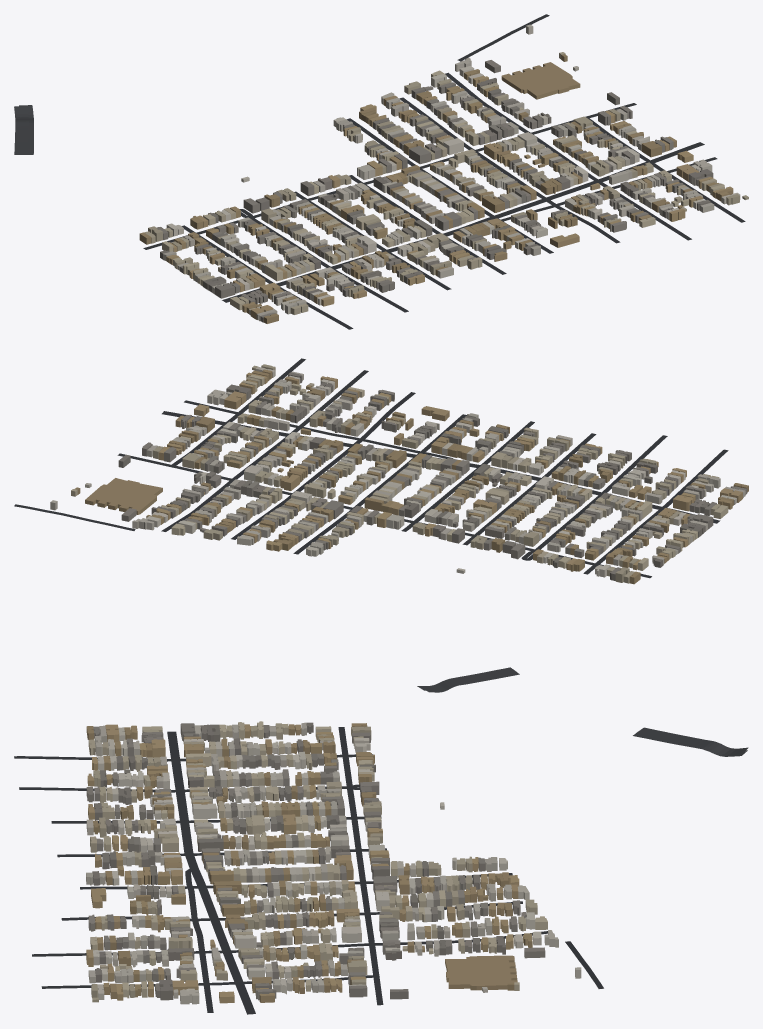
File: tile_6_11.glb
The picture shows the model from 3 angles, top to bottom: view 1: azimuth 30°, elevation 25°; view 2: azimuth 150°, elevation 25°; view 3: azimuth 270°, elevation 25°; orthographic projection. The views are drawn at different scales.
Parts seen in each view (by area): view 1: bld_6_11, road_6_11; view 2: bld_6_11, road_6_11; view 3: bld_6_11, road_6_11.
Boxes of the visible parts, x1,y1,x2,y2 form: bld_6_11: (139, 24, 748, 323); road_6_11: (14, 14, 745, 329); bld_6_11: (50, 364, 748, 584); road_6_11: (14, 358, 728, 692); bld_6_11: (86, 721, 581, 1004); road_6_11: (14, 727, 748, 1014).
Size of the model in its own units: 850 by 48.79 by 891.
